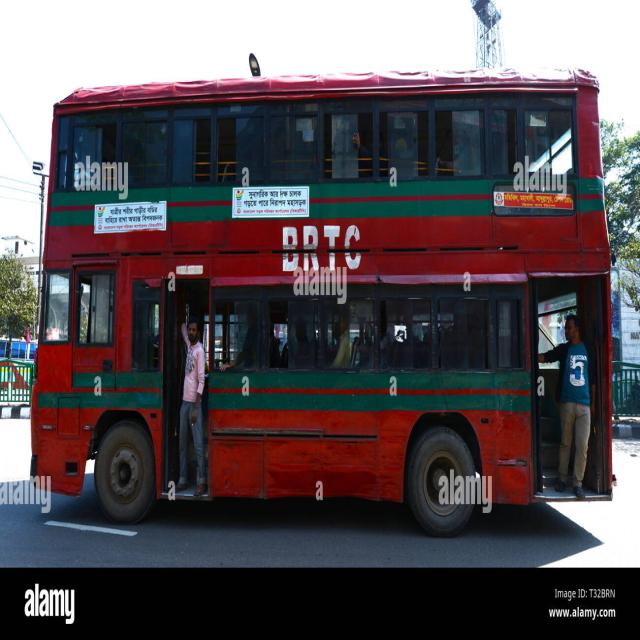Double decker: (24, 55, 630, 543)
